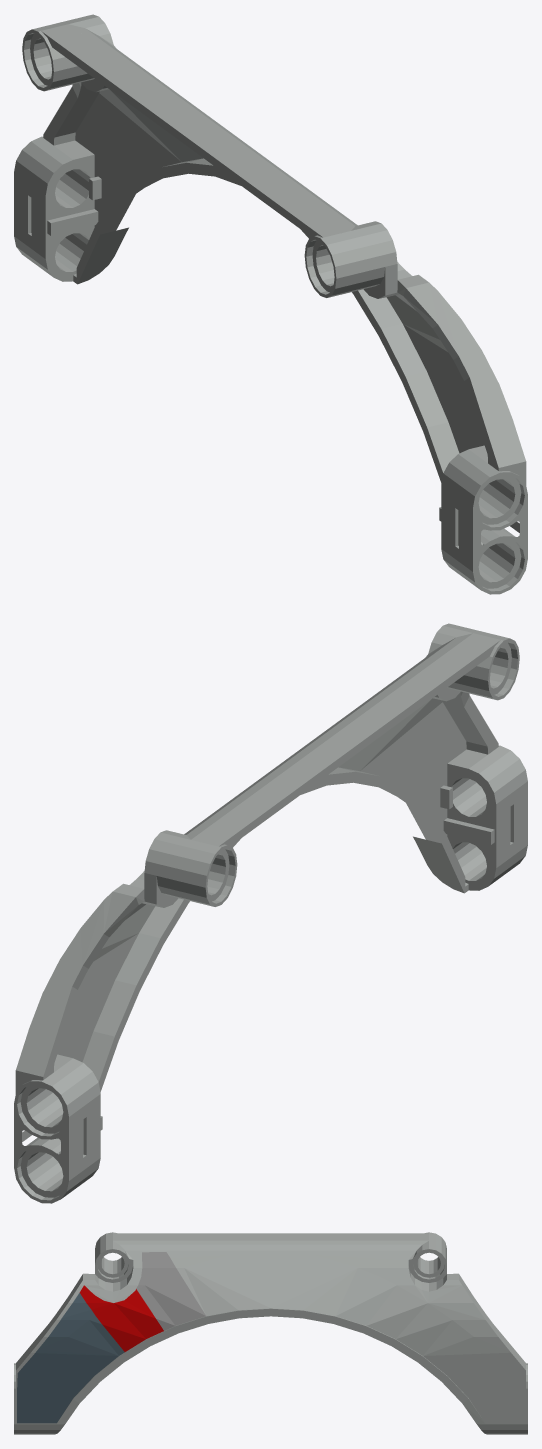
3 renders of one model, top to bottom at view 1: azimuth 30°, elevation 25°; view 2: azimuth 150°, elevation 25°; view 3: azimuth 270°, elevation 25°, orthographic. The views are drawn at different scales.
Parts seen in each view (by area): view 1: world; view 2: world; view 3: world.
Boxes of the visible parts, left/top/right/bottom form: world: left=14, top=14, right=527, bottom=594; world: left=14, top=623, right=527, bottom=1203; world: left=14, top=1232, right=527, bottom=1434.
Size of the model in its own units: 0.0158 by 0.0392 by 0.104.
